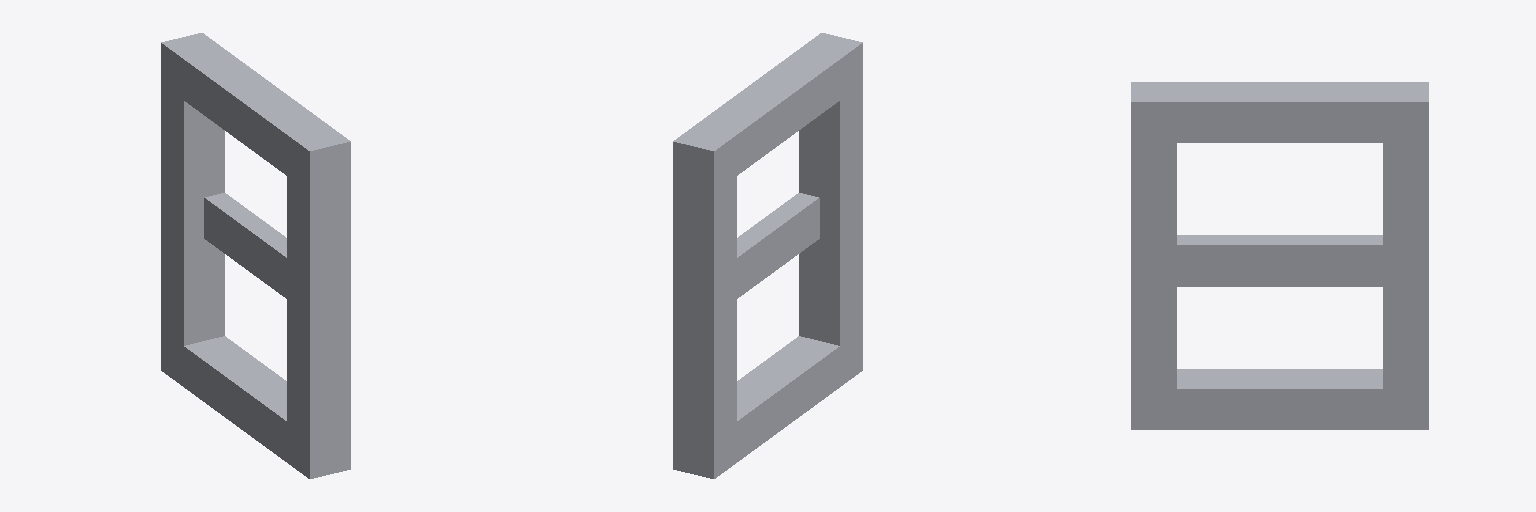
3 views of the same model, side by side, from view 1: azimuth 30°, elevation 25°; view 2: azimuth 150°, elevation 25°; view 3: azimuth 270°, elevation 25° (orthographic).
Visible parts, largest first — view 1: G-__556293_G-__556293_Metal; view 2: G-__556293_G-__556293_Metal; view 3: G-__556293_G-__556293_Metal.
Boxes of the visible parts, box(x1,y1,x2,y2) form: G-__556293_G-__556293_Metal: box(161, 33, 350, 478); G-__556293_G-__556293_Metal: box(673, 33, 862, 478); G-__556293_G-__556293_Metal: box(1131, 82, 1428, 429).
Bounding box in the file's own units: 0.05 × 0.38 × 0.3125.